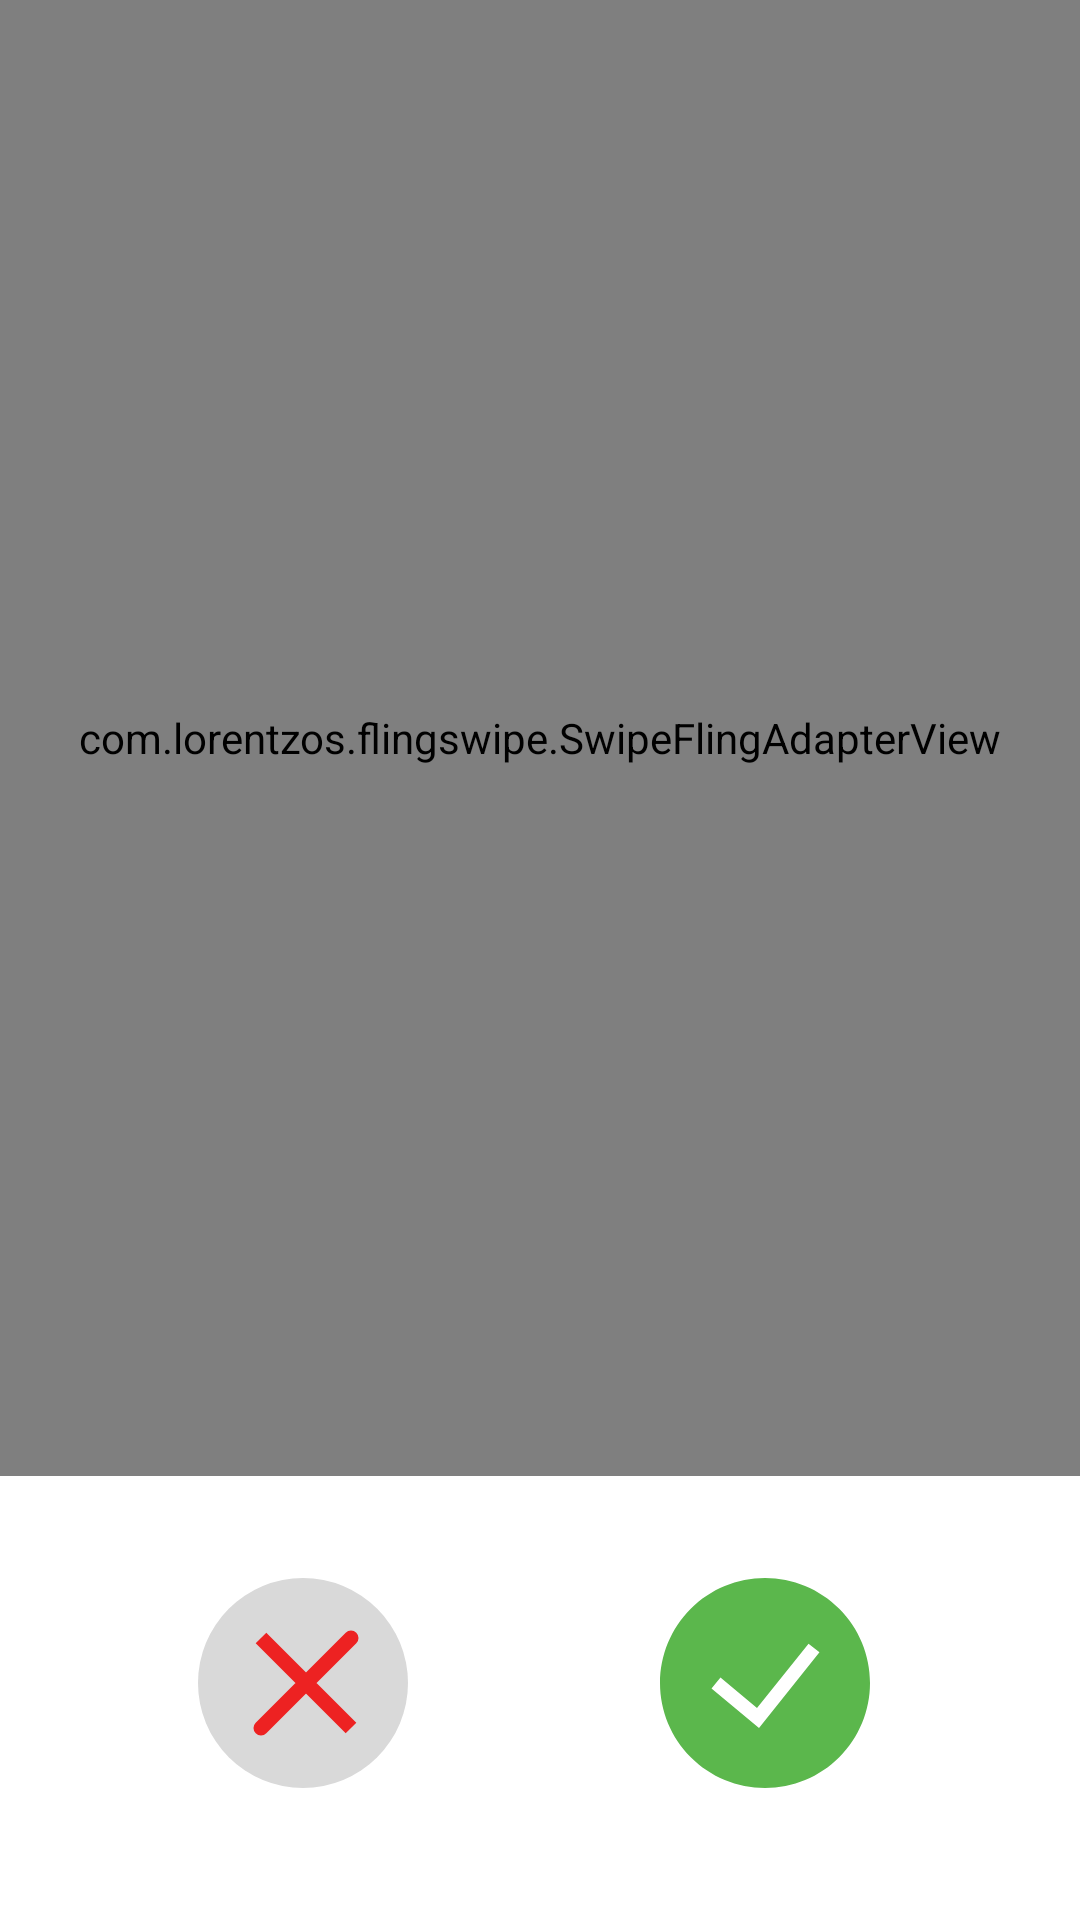

Icons on this 1080 × 1920 Android screen, each with the point to tap as (x=x, y=y):
cross: (x=303, y=1683)
tick: (x=765, y=1683)
